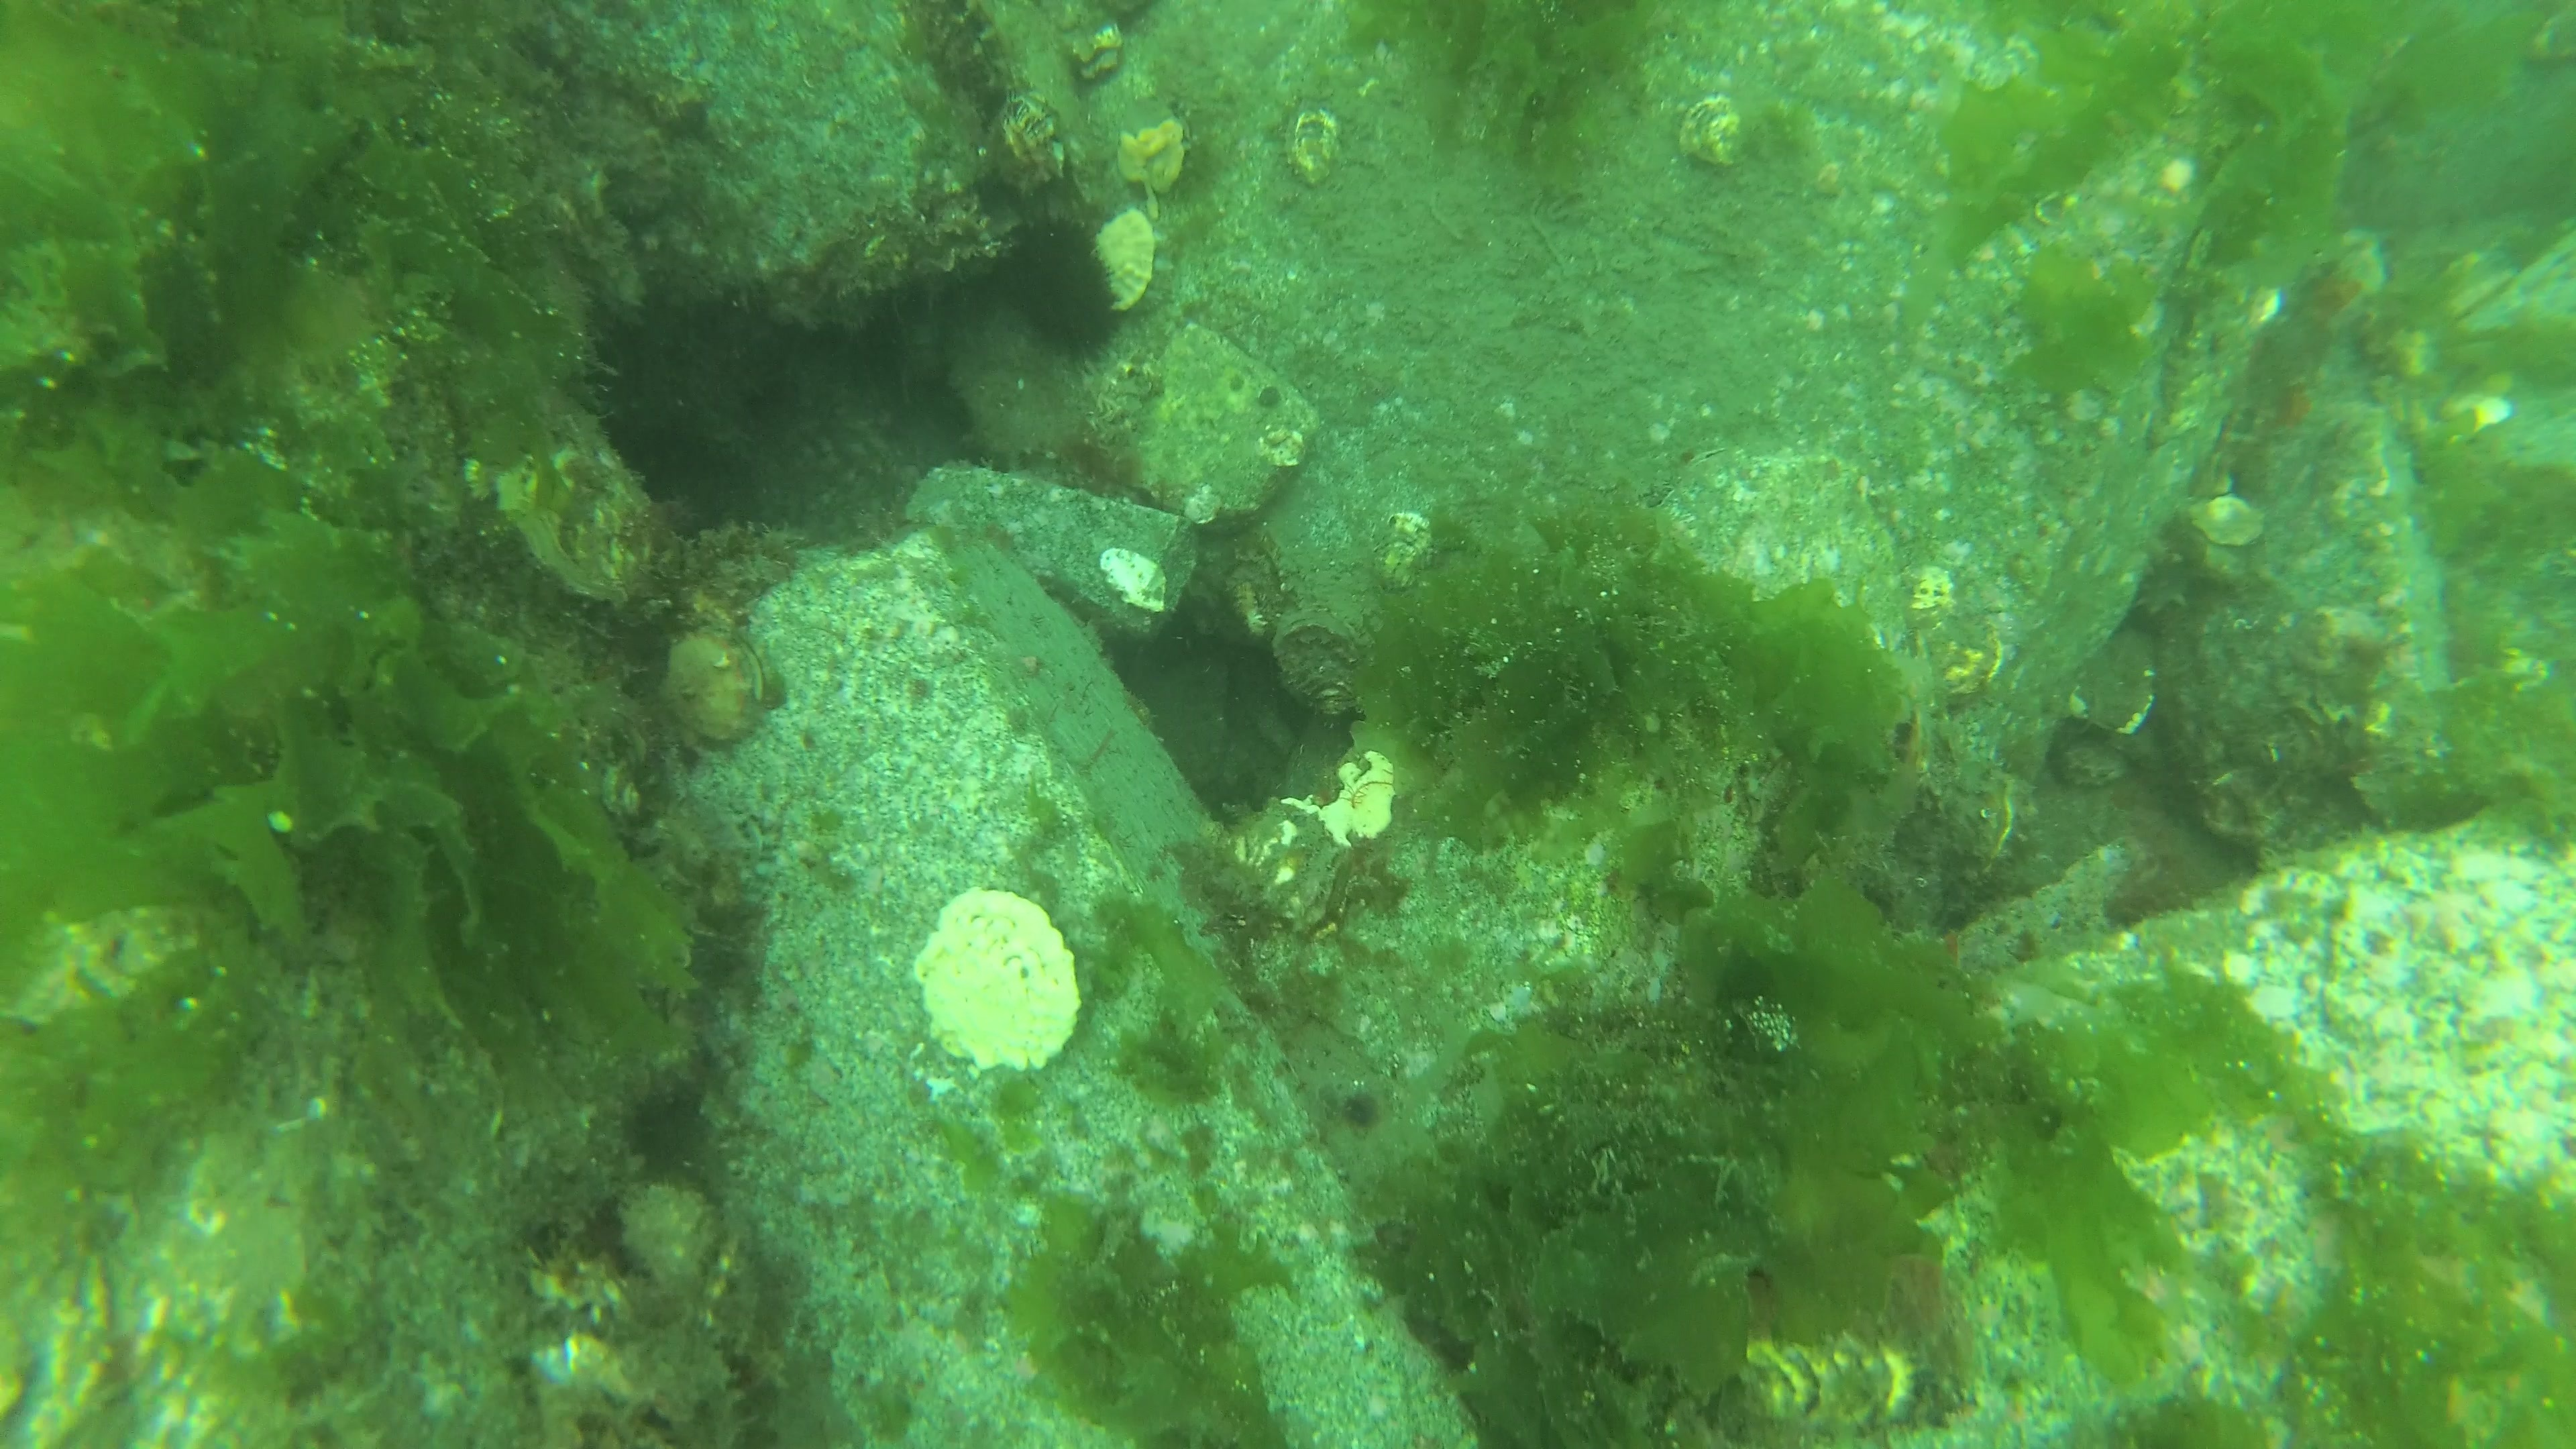echinus: (1000, 212, 1123, 370)
holothurian: (2128, 570, 2190, 616)
scallop: (911, 883, 1086, 1076), (1092, 203, 1159, 315)
